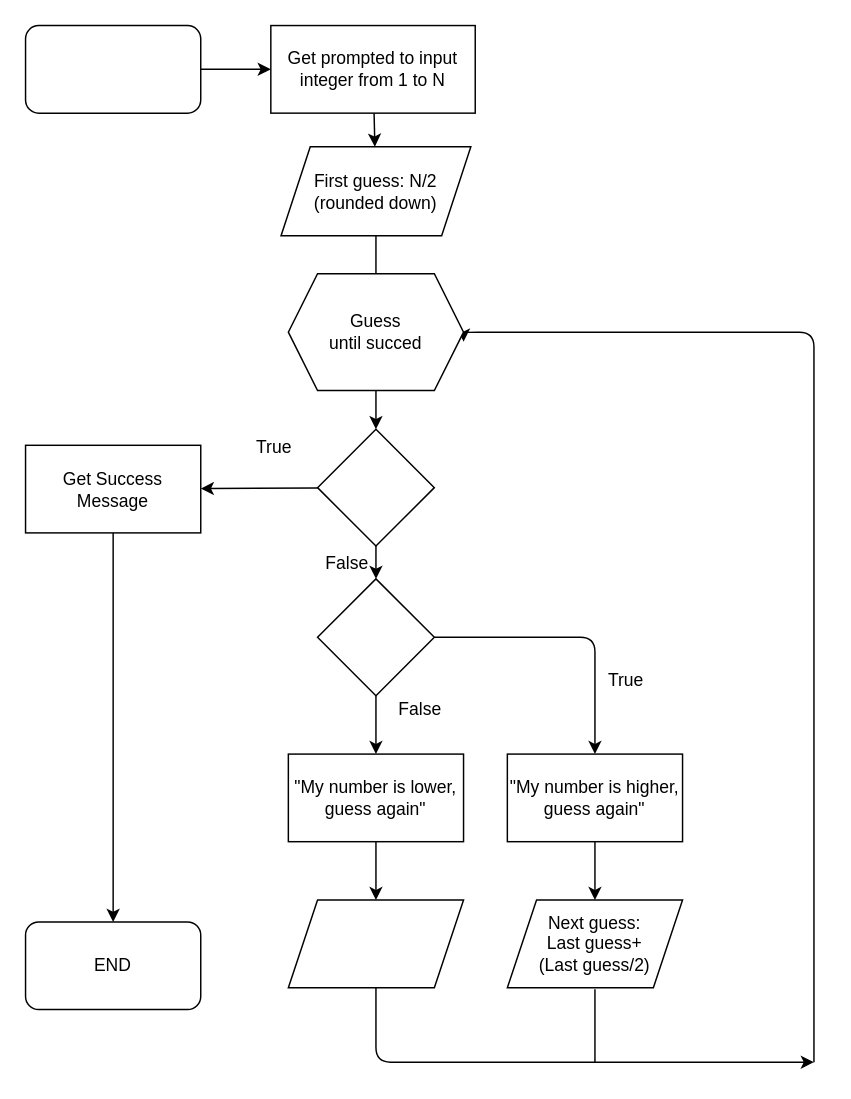
The diagram is 851 pixels wide and 1099 high, and some of its shapes have lost their labels. The centre of each missing label's shape, as x and y in pixels:
Input < number?: point (375, 636)
Input === number?: point (375, 487)
Next guess: Last guess/2: point (375, 943)
START: point (112, 68)
